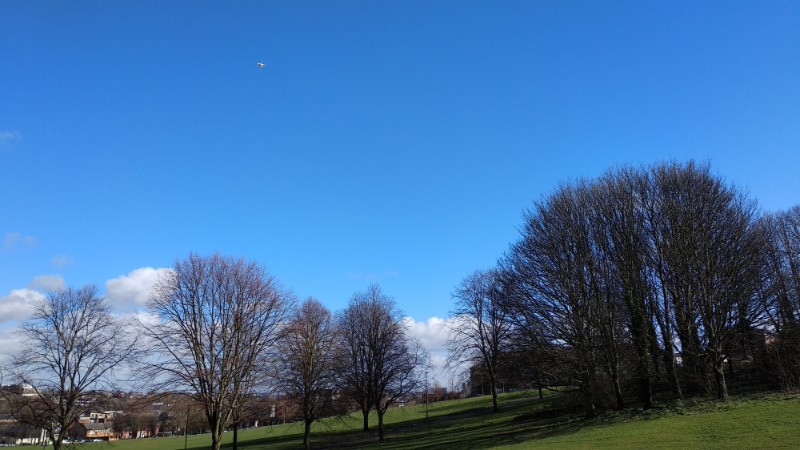drone: (255, 60, 267, 71)
